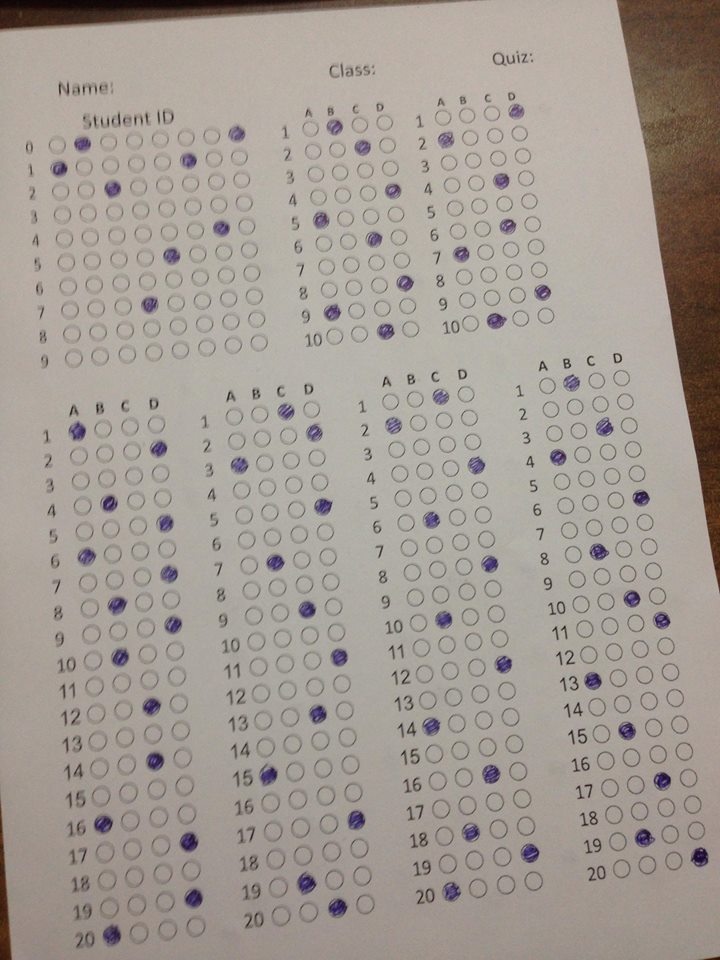not-c: (169, 720, 192, 743), (432, 824, 455, 847), (186, 915, 208, 939), (129, 921, 151, 944), (348, 837, 371, 859), (355, 893, 377, 916), (494, 874, 517, 896), (488, 819, 510, 841), (165, 667, 188, 688), (147, 779, 168, 802), (148, 807, 171, 828), (150, 837, 173, 858), (246, 657, 269, 678), (351, 865, 374, 886), (678, 767, 699, 790), (513, 788, 533, 812), (132, 567, 154, 588), (82, 649, 104, 670), (181, 862, 203, 883), (289, 817, 310, 839), (321, 841, 342, 863), (507, 761, 529, 782), (491, 846, 513, 867), (177, 805, 197, 828), (93, 844, 116, 864), (123, 839, 143, 862), (158, 918, 178, 941), (117, 784, 141, 803), (86, 703, 107, 724), (295, 574, 316, 595), (332, 675, 353, 696), (463, 632, 484, 653), (467, 657, 488, 678), (585, 696, 606, 717), (668, 715, 689, 736), (313, 757, 333, 779), (267, 877, 289, 897), (423, 536, 445, 556), (485, 605, 507, 625), (430, 799, 452, 819), (516, 816, 538, 836), (464, 850, 484, 872), (519, 191, 541, 211), (674, 742, 696, 762), (655, 798, 677, 818), (683, 795, 705, 815), (125, 896, 148, 915), (242, 606, 265, 625), (600, 776, 619, 799), (152, 894, 176, 912), (165, 642, 186, 662), (114, 700, 134, 721), (168, 695, 189, 715), (173, 750, 193, 771), (88, 787, 109, 807), (309, 472, 329, 493), (259, 504, 280, 524), (287, 501, 307, 522), (322, 571, 342, 592), (246, 632, 267, 652), (302, 651, 323, 671), (251, 684, 271, 705), (305, 678, 325, 699), (286, 762, 306, 783), (318, 814, 339, 834), (318, 279, 339, 299), (441, 662, 461, 683), (418, 690, 438, 711), (497, 683, 518, 703), (474, 710, 495, 730), (451, 740, 471, 761), (504, 735, 525, 755), (456, 796, 477, 816), (616, 392, 637, 412), (644, 560, 664, 581), (571, 594, 591, 615), (655, 637, 676, 657), (612, 695, 633, 715), (625, 775, 646, 795), (47, 135, 69, 154), (140, 669, 159, 691), (85, 731, 107, 750), (115, 757, 137, 776), (154, 862, 173, 884), (281, 735, 303, 754), (309, 730, 331, 749), (261, 793, 280, 815), (524, 871, 543, 893), (233, 195, 256, 213), (240, 582, 263, 600), (394, 513, 417, 531), (138, 271, 158, 291), (115, 321, 135, 341), (161, 591, 181, 611), (85, 676, 105, 696), (281, 451, 301, 471), (306, 448, 326, 468), (292, 550, 312, 570), (275, 654, 295, 674), (288, 791, 308, 811), (265, 851, 285, 871), (272, 905, 292, 925), (575, 619, 595, 639), (687, 820, 707, 840), (75, 158, 94, 179), (184, 222, 205, 241), (56, 253, 77, 272), (189, 268, 210, 287), (244, 286, 265, 305), (89, 323, 110, 342), (128, 517, 149, 536), (78, 572, 99, 591), (105, 569, 124, 590), (81, 598, 100, 619), (111, 675, 132, 694), (115, 729, 136, 748), (88, 759, 109, 778), (270, 604, 291, 623), (278, 682, 297, 703), (333, 701, 354, 720), (256, 738, 277, 757), (338, 729, 359, 748), (341, 754, 360, 775), (470, 686, 491, 705), (478, 738, 497, 759), (537, 305, 556, 326), (562, 545, 583, 564), (618, 564, 639, 583), (597, 591, 616, 612), (604, 642, 623, 663), (590, 725, 611, 744), (594, 751, 615, 770), (631, 801, 650, 822), (237, 556, 259, 574), (61, 327, 84, 344), (203, 127, 222, 147), (134, 225, 154, 244), (142, 319, 161, 339), (170, 317, 190, 336), (148, 414, 168, 433), (97, 469, 117, 488), (81, 623, 101, 642), (109, 622, 129, 641), (139, 645, 158, 665), (143, 724, 163, 743), (121, 810, 140, 830), (124, 867, 143, 887), (262, 528, 282, 547), (325, 597, 345, 616), (344, 783, 363, 803), (293, 845, 312, 865), (457, 385, 476, 405), (437, 435, 457, 454), (402, 563, 422, 582), (405, 589, 425, 608), (490, 632, 510, 651), (424, 745, 444, 764), (484, 793, 504, 812), (438, 855, 457, 875), (469, 879, 489, 898), (509, 125, 529, 144), (509, 285, 529, 304), (570, 421, 589, 441), (586, 518, 605, 538), (635, 666, 654, 686), (638, 692, 658, 711), (621, 748, 641, 767), (605, 805, 624, 825), (609, 832, 628, 852), (638, 856, 658, 875), (125, 133, 146, 151), (50, 183, 71, 201), (58, 279, 79, 297), (86, 300, 107, 318), (63, 350, 84, 368), (143, 343, 164, 361), (70, 473, 91, 491), (258, 479, 279, 497), (289, 526, 310, 544), (318, 549, 339, 567), (298, 626, 319, 644), (252, 711, 273, 729), (315, 786, 336, 804), (324, 870, 345, 888), (346, 301, 367, 319), (411, 613, 429, 634), (429, 770, 447, 791), (643, 719, 664, 737), (176, 776, 193, 798), (414, 463, 436, 480), (397, 539, 419, 556), (611, 370, 633, 387), (183, 199, 202, 218), (114, 299, 133, 318), (194, 291, 213, 310), (248, 310, 267, 329), (126, 467, 145, 486), (102, 519, 121, 538), (136, 594, 155, 613), (256, 454, 275, 473), (327, 622, 346, 641), (300, 902, 319, 921), (356, 162, 375, 181), (380, 159, 399, 178), (387, 206, 406, 225), (464, 433, 483, 452), (457, 583, 476, 602), (458, 106, 477, 125), (530, 262, 549, 281), (650, 745, 669, 764), (78, 206, 98, 224), (103, 546, 123, 564), (99, 900, 119, 918), (225, 433, 245, 451), (262, 823, 282, 841), (375, 114, 395, 132), (335, 187, 355, 205), (389, 229, 409, 247), (367, 253, 385, 273), (440, 461, 460, 479), (394, 489, 412, 509), (444, 485, 464, 503), (430, 585, 450, 603), (485, 578, 503, 598), (413, 639, 431, 659), (437, 637, 457, 655), (501, 708, 521, 726), (455, 769, 475, 787), (432, 108, 452, 126), (463, 153, 483, 171), (469, 198, 489, 216), (545, 425, 565, 443), (620, 418, 640, 436), (555, 497, 575, 515), (635, 513, 655, 531), (648, 587, 668, 605), (608, 670, 628, 688), (662, 662, 680, 682), (666, 689, 684, 709), (126, 158, 147, 175), (60, 303, 81, 320), (459, 410, 480, 427), (476, 505, 493, 526), (442, 177, 463, 194), (456, 293, 477, 310), (510, 310, 531, 327), (614, 541, 635, 558), (99, 134, 118, 152), (153, 153, 171, 172), (77, 182, 95, 201), (158, 200, 177, 218), (210, 197, 229, 215), (238, 218, 256, 237), (189, 246, 208, 264), (163, 271, 182, 289), (221, 313, 240, 331), (224, 336, 243, 354), (124, 441, 142, 460), (233, 480, 251, 499), (272, 630, 291, 648), (280, 708, 299, 726), (314, 234, 333, 252), (338, 233, 356, 252), (409, 414, 427, 433), (470, 482, 489, 500), (478, 530, 496, 549), (429, 560, 447, 579), (461, 609, 480, 627), (445, 689, 463, 708), (448, 715, 467, 733), (483, 104, 501, 123), (485, 128, 504, 146), (527, 237, 545, 256), (538, 376, 556, 395), (577, 468, 595, 487), (603, 467, 621, 486), (608, 491, 626, 510), (640, 537, 658, 556), (601, 617, 619, 636), (631, 641, 649, 660), (661, 825, 679, 844), (175, 130, 195, 147), (136, 249, 156, 266), (117, 346, 137, 363), (197, 340, 217, 357), (152, 465, 172, 482), (131, 543, 151, 560), (301, 401, 321, 418), (236, 531, 256, 548), (306, 165, 326, 182), (373, 301, 393, 318), (417, 664, 434, 684), (439, 153, 459, 170), (467, 176, 487, 193), (445, 199, 465, 216), (495, 196, 515, 213), (475, 243, 495, 260), (559, 522, 579, 539), (666, 851, 683, 871), (68, 449, 89, 465), (72, 498, 93, 514), (249, 407, 270, 423), (317, 523, 333, 544), (349, 327, 370, 343), (314, 258, 336, 273), (82, 229, 100, 247), (108, 228, 126, 246), (161, 223, 179, 241), (84, 252, 102, 270), (241, 241, 259, 259), (112, 275, 130, 293), (171, 341, 189, 359), (97, 871, 115, 889), (280, 428, 298, 446), (285, 477, 303, 495), (269, 579, 287, 597), (310, 188, 328, 206), (393, 251, 411, 269), (403, 320, 421, 338), (383, 393, 401, 411), (435, 412, 453, 430), (413, 439, 431, 457), (392, 465, 410, 483), (461, 130, 479, 148), (518, 169, 536, 187), (593, 395, 611, 413), (569, 571, 587, 589), (580, 645, 598, 663), (85, 278, 104, 295), (243, 264, 262, 281), (221, 290, 238, 309), (94, 421, 113, 438), (121, 419, 140, 436), (127, 493, 146, 510), (154, 489, 171, 508), (75, 523, 94, 540), (225, 409, 244, 426), (359, 184, 376, 203), (335, 210, 354, 227), (371, 277, 388, 296), (326, 329, 345, 346), (388, 443, 407, 460), (453, 533, 470, 552), (455, 559, 474, 576), (489, 150, 508, 167), (480, 266, 499, 283), (566, 399, 585, 416), (599, 444, 618, 461), (624, 441, 643, 458), (553, 473, 572, 490), (630, 464, 647, 483), (594, 568, 611, 587), (612, 861, 631, 878), (204, 153, 224, 169), (573, 447, 593, 463), (629, 613, 645, 633), (101, 159, 119, 176), (181, 177, 199, 194), (233, 173, 251, 190), (133, 201, 150, 219), (56, 233, 74, 250), (215, 246, 233, 263), (218, 266, 235, 284), (167, 295, 184, 313), (196, 315, 214, 332), (251, 336, 269, 353), (96, 445, 114, 462), (254, 430, 271, 448), (234, 507, 252, 524), (303, 144, 321, 161), (329, 141, 346, 159), (379, 137, 397, 154), (449, 509, 467, 526), (524, 216, 542, 233), (506, 265, 524, 282), (582, 495, 599, 513), (611, 517, 629, 534), (105, 205, 124, 221), (138, 620, 157, 636), (332, 165, 351, 181), (363, 207, 379, 226), (343, 257, 359, 276), (514, 149, 533, 165), (454, 269, 473, 285), (587, 373, 606, 389), (542, 401, 561, 417), (231, 150, 251, 165), (151, 132, 168, 149), (159, 541, 176, 558), (352, 118, 369, 135), (400, 298, 417, 315), (407, 392, 424, 409), (419, 487, 436, 504), (503, 242, 520, 259), (155, 179, 173, 195), (54, 208, 70, 226), (302, 119, 318, 137), (344, 280, 362, 296), (483, 290, 501, 306), (91, 350, 110, 365), (462, 317, 481, 332), (111, 252, 127, 269), (474, 222, 492, 237), (208, 175, 224, 191), (130, 181, 147, 196), (449, 223, 466, 237)
taken-c: (295, 872, 317, 896), (183, 887, 205, 910), (440, 881, 463, 903), (562, 373, 585, 395), (258, 764, 279, 788), (154, 513, 176, 535), (75, 546, 98, 567), (307, 703, 328, 726), (296, 600, 319, 621), (102, 924, 122, 948), (654, 771, 674, 795), (106, 596, 128, 617), (162, 614, 183, 636), (327, 898, 348, 920), (480, 764, 501, 786), (519, 842, 540, 864), (594, 416, 615, 438), (691, 846, 711, 869), (308, 212, 332, 231), (227, 123, 248, 144), (93, 813, 114, 834), (179, 831, 200, 852), (460, 822, 481, 843), (588, 541, 609, 562), (66, 422, 88, 442), (346, 809, 366, 831), (616, 721, 638, 741), (650, 610, 672, 630), (159, 564, 179, 585), (329, 647, 349, 668), (71, 135, 93, 154), (434, 130, 456, 149), (179, 152, 199, 172), (102, 179, 122, 199), (149, 439, 169, 459), (99, 493, 119, 513), (111, 647, 131, 667), (145, 751, 165, 771), (230, 456, 250, 476), (466, 457, 486, 477), (434, 611, 454, 631), (421, 717, 441, 737), (479, 554, 500, 573), (533, 284, 554, 303), (635, 828, 654, 849), (212, 219, 232, 238), (265, 554, 285, 573), (305, 424, 324, 444), (276, 403, 296, 422), (384, 417, 404, 436), (422, 510, 441, 530), (494, 655, 513, 675), (352, 138, 372, 157), (582, 671, 602, 690), (633, 488, 653, 507), (49, 160, 68, 179), (142, 698, 161, 717), (323, 303, 342, 322), (365, 231, 384, 250), (509, 102, 528, 121), (162, 247, 182, 265), (140, 296, 160, 314), (376, 323, 396, 341), (325, 118, 345, 136), (493, 171, 513, 189), (498, 216, 518, 234), (547, 450, 567, 468), (314, 498, 333, 516), (396, 274, 415, 292), (487, 312, 507, 329), (432, 389, 450, 407), (384, 182, 402, 200), (452, 247, 470, 265), (624, 591, 642, 608)
